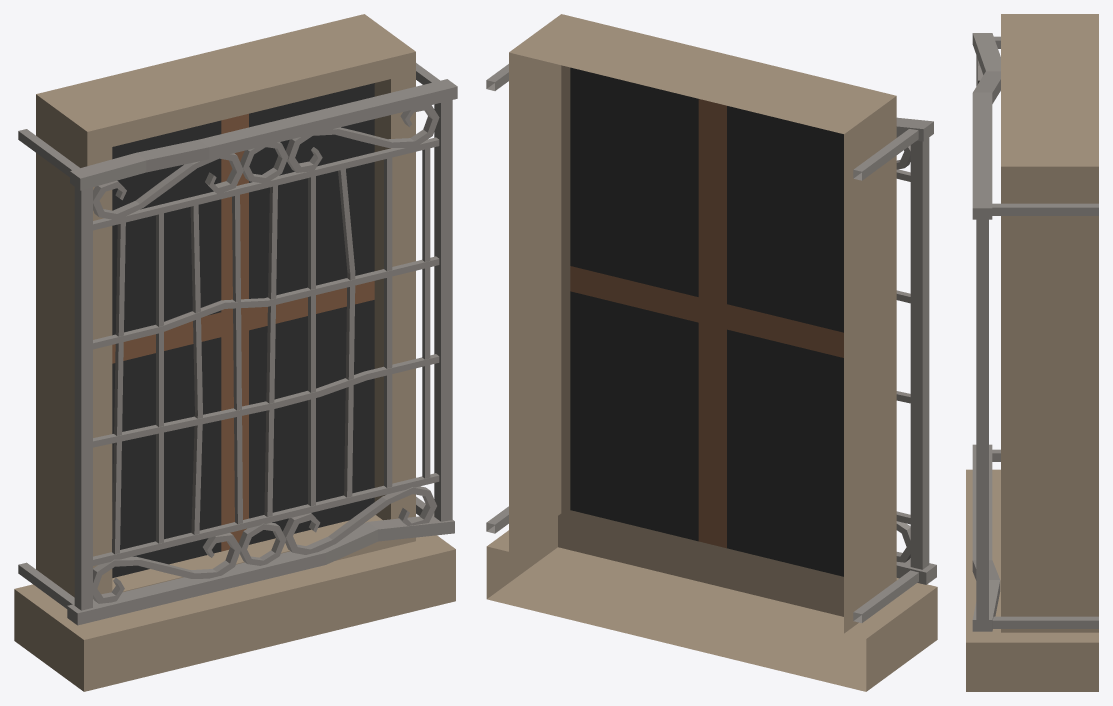
File: SM_Prop_Window_04.glb
The picture shows the model from 3 angles, left to right: view 1: azimuth 30°, elevation 25°; view 2: azimuth 150°, elevation 25°; view 3: azimuth 270°, elevation 25°; orthographic projection. The views are drawn at different scales.
Visible parts, largest first — view 1: SM_Prop_Window_04_part00; view 2: SM_Prop_Window_04_part00; view 3: SM_Prop_Window_04_part00.
Part boxes in pixels (left/top/right/bottom): SM_Prop_Window_04_part00: left=14, top=14, right=457, bottom=691; SM_Prop_Window_04_part00: left=486, top=14, right=937, bottom=691; SM_Prop_Window_04_part00: left=966, top=14, right=1098, bottom=691.
Size of the model in its own units: 1.12 by 1.53 by 0.3578.
Materials: 1 (1 with a texture image).
